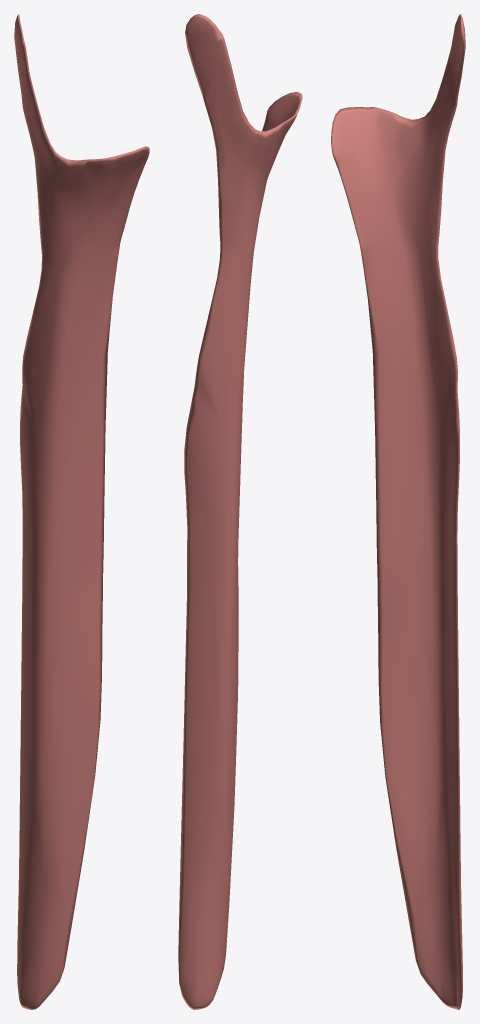
3 renders of one model, left to right at view 1: azimuth 90°, elevation 25°; view 2: azimuth 150°, elevation 25°; view 3: azimuth 270°, elevation 25°, orthographic.
Visible parts, largest first — view 1: ZA_3edf41e16b2aa21e; view 2: ZA_3edf41e16b2aa21e; view 3: ZA_3edf41e16b2aa21e.
Boxes of the visible parts, bbox=[...] form: ZA_3edf41e16b2aa21e: bbox=[14, 14, 149, 1009]; ZA_3edf41e16b2aa21e: bbox=[178, 14, 302, 1009]; ZA_3edf41e16b2aa21e: bbox=[331, 14, 465, 1009].
Bounding box in the file's own units: 0.0114 × 0.146 × 0.018.
